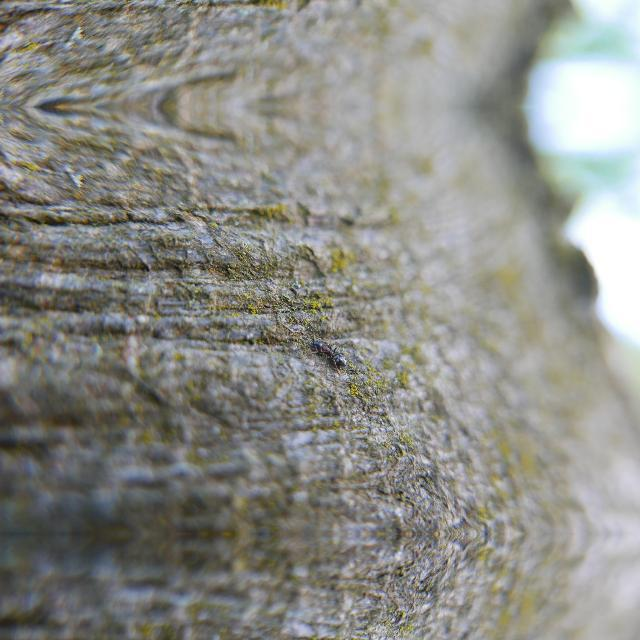Dolichoderus: (306, 333, 356, 371)
